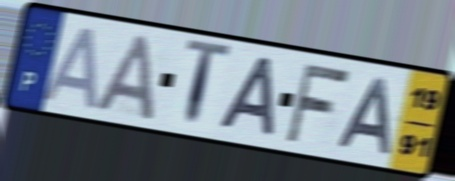A: (92, 32, 156, 124), (38, 24, 101, 113), (215, 54, 277, 141), (334, 76, 394, 158)
F: (283, 60, 354, 145)
T: (182, 36, 235, 134)
